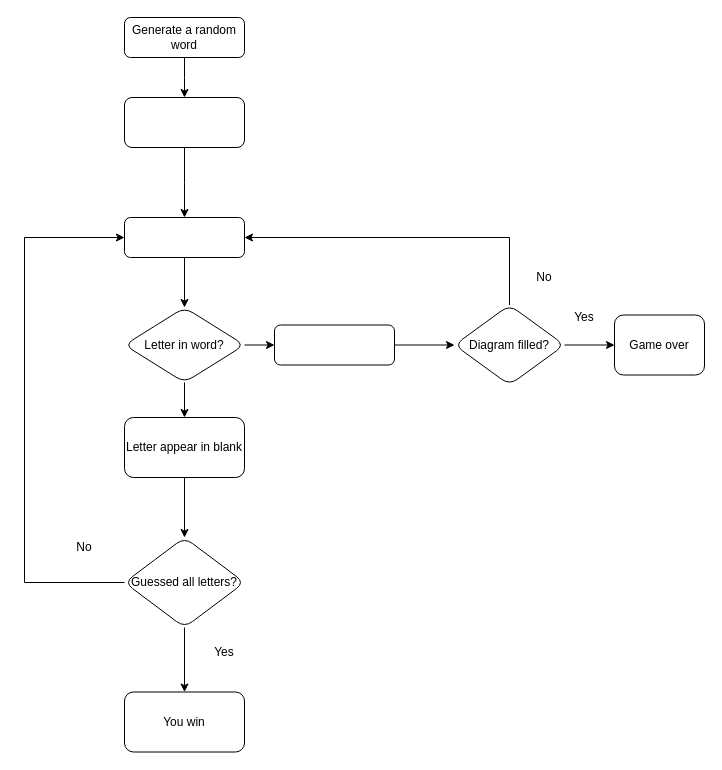
The diagram is 722 pixels wide and 770 high, and some of its shapes have lost their labels. Each missing label, with the centre of its shape:
Draw a stroke in diagram: (x=334, y=344)
Generate as many blanks as the number of letters in the word: (x=184, y=122)
Guess a letter: (x=184, y=237)
